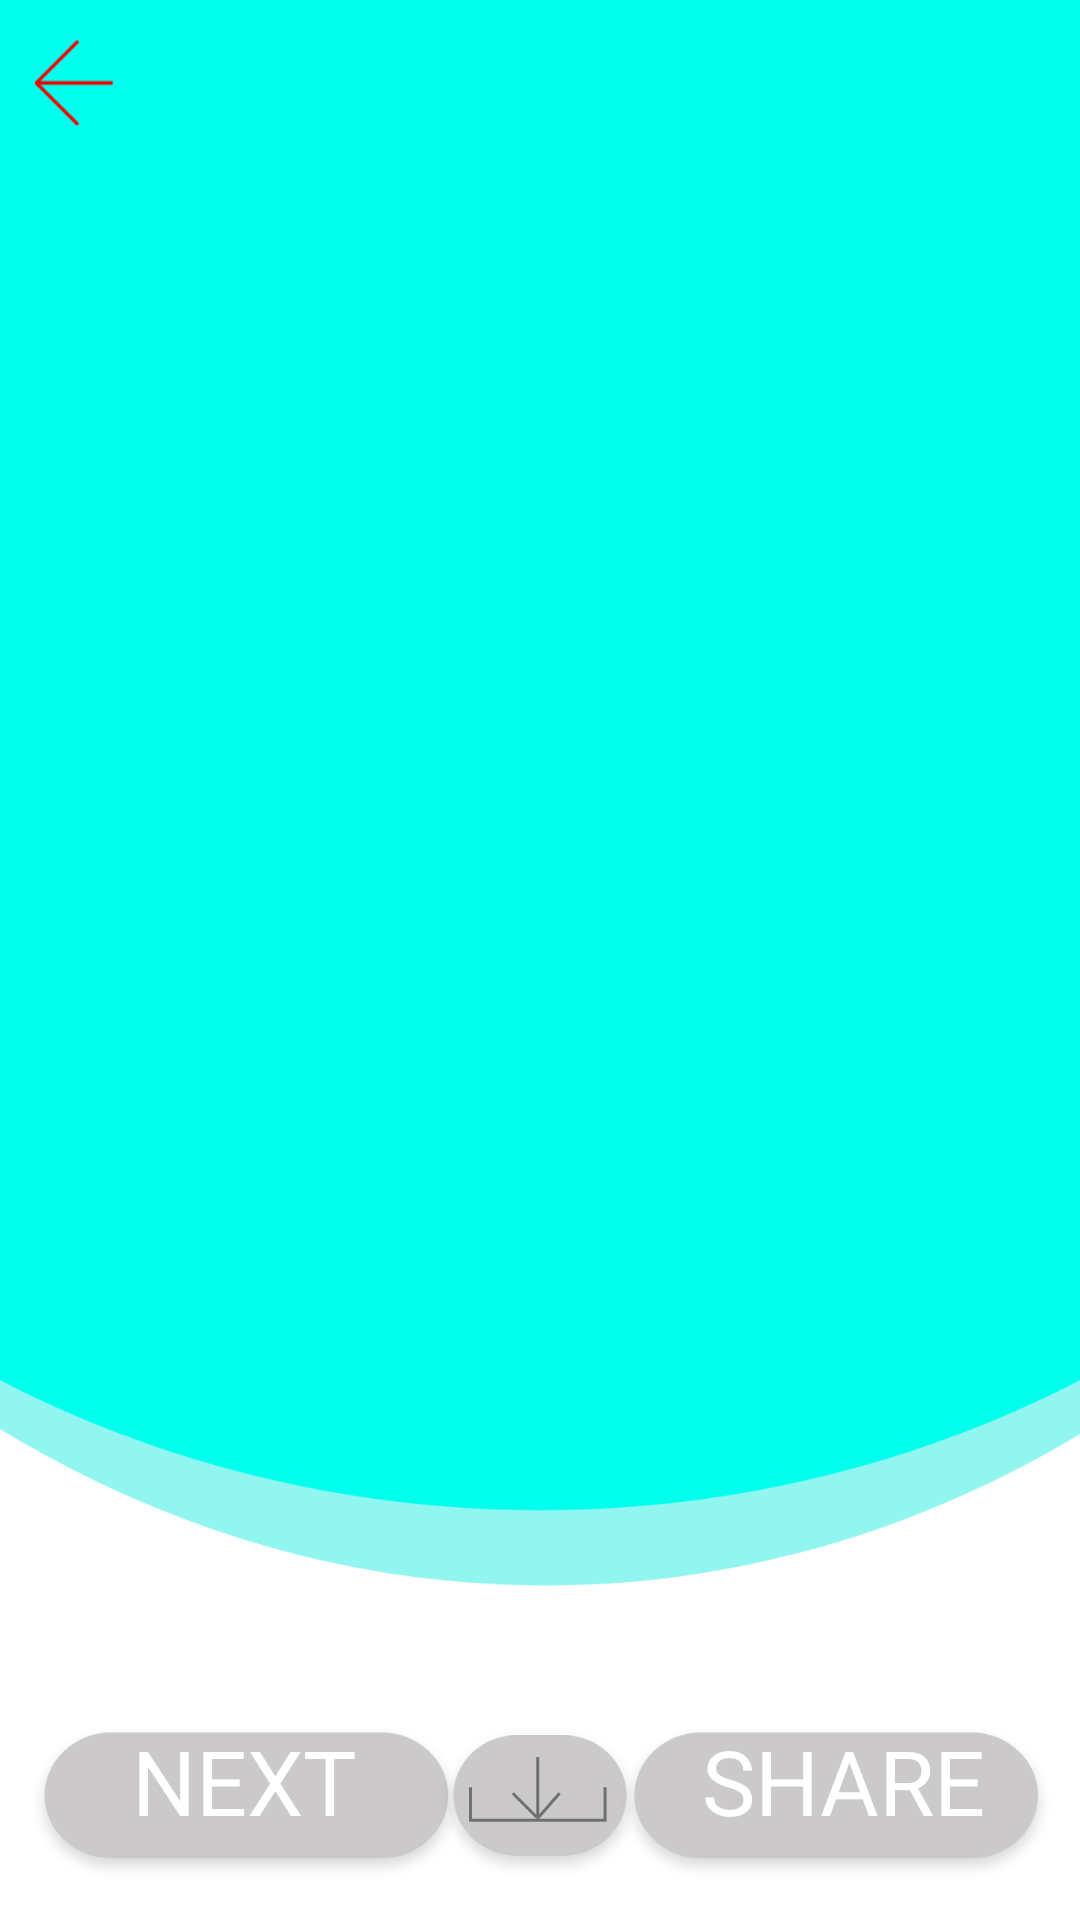

Locate icon controls on the screen. Image size 1080×1920, boxes as (x1, y1, x2, y2).
backbtntop: (35, 40, 113, 126)
downloadbtn: (469, 1757, 607, 1822)
